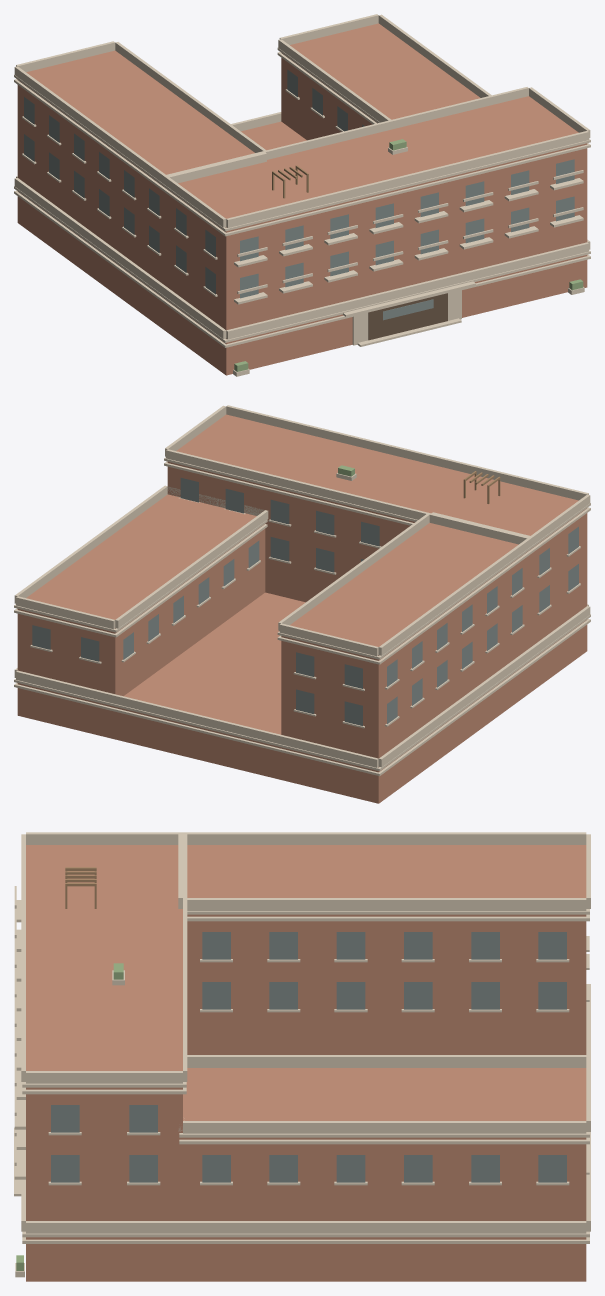
The model's file is residential_4x4_court.glb.
3 views of the same model, one above another, from view 1: azimuth 30°, elevation 25°; view 2: azimuth 150°, elevation 25°; view 3: azimuth 270°, elevation 25° (orthographic). The views are drawn at different scales.
Parts seen in each view (by area): view 1: residential_4x4_court_0; view 2: residential_4x4_court_0; view 3: residential_4x4_court_0.
Boxes of the visible parts, bbox=[...] form: residential_4x4_court_0: bbox=[14, 14, 590, 376]; residential_4x4_court_0: bbox=[14, 405, 590, 803]; residential_4x4_court_0: bbox=[14, 832, 590, 1281].
Bounding box in the file's own units: 31 × 13.5 × 31.4.
